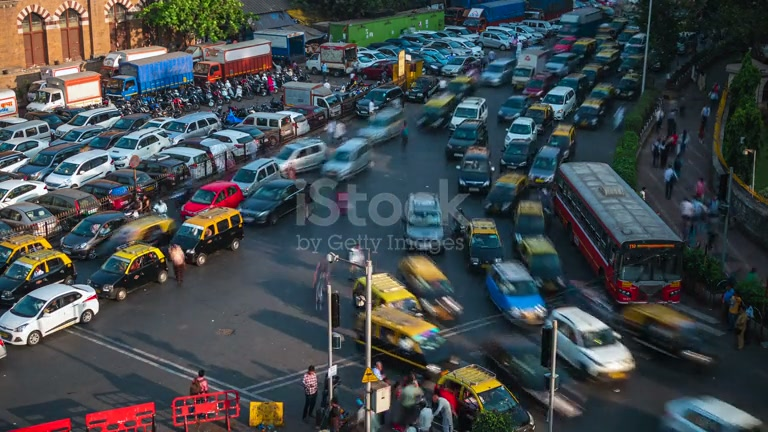bus: (552, 160, 686, 306), (527, 122, 577, 184)
car: (617, 301, 721, 372), (546, 305, 637, 383), (434, 363, 536, 431), (0, 282, 100, 347), (0, 243, 76, 308), (397, 251, 464, 323), (88, 242, 169, 301), (484, 259, 549, 327), (171, 207, 244, 267), (656, 394, 766, 432), (513, 231, 569, 300), (59, 210, 132, 261), (78, 169, 159, 212), (239, 177, 303, 226), (41, 150, 114, 191), (403, 190, 447, 255), (179, 179, 245, 221), (320, 136, 374, 181), (462, 218, 506, 271), (273, 136, 328, 178), (0, 203, 61, 240), (483, 171, 529, 216), (456, 145, 496, 194), (231, 156, 283, 193), (444, 120, 489, 161), (207, 128, 259, 161)
pedestrian: (428, 385, 455, 432), (301, 365, 319, 420), (169, 244, 186, 285), (189, 369, 209, 396), (663, 166, 677, 200)
truck: (170, 390, 241, 431)
